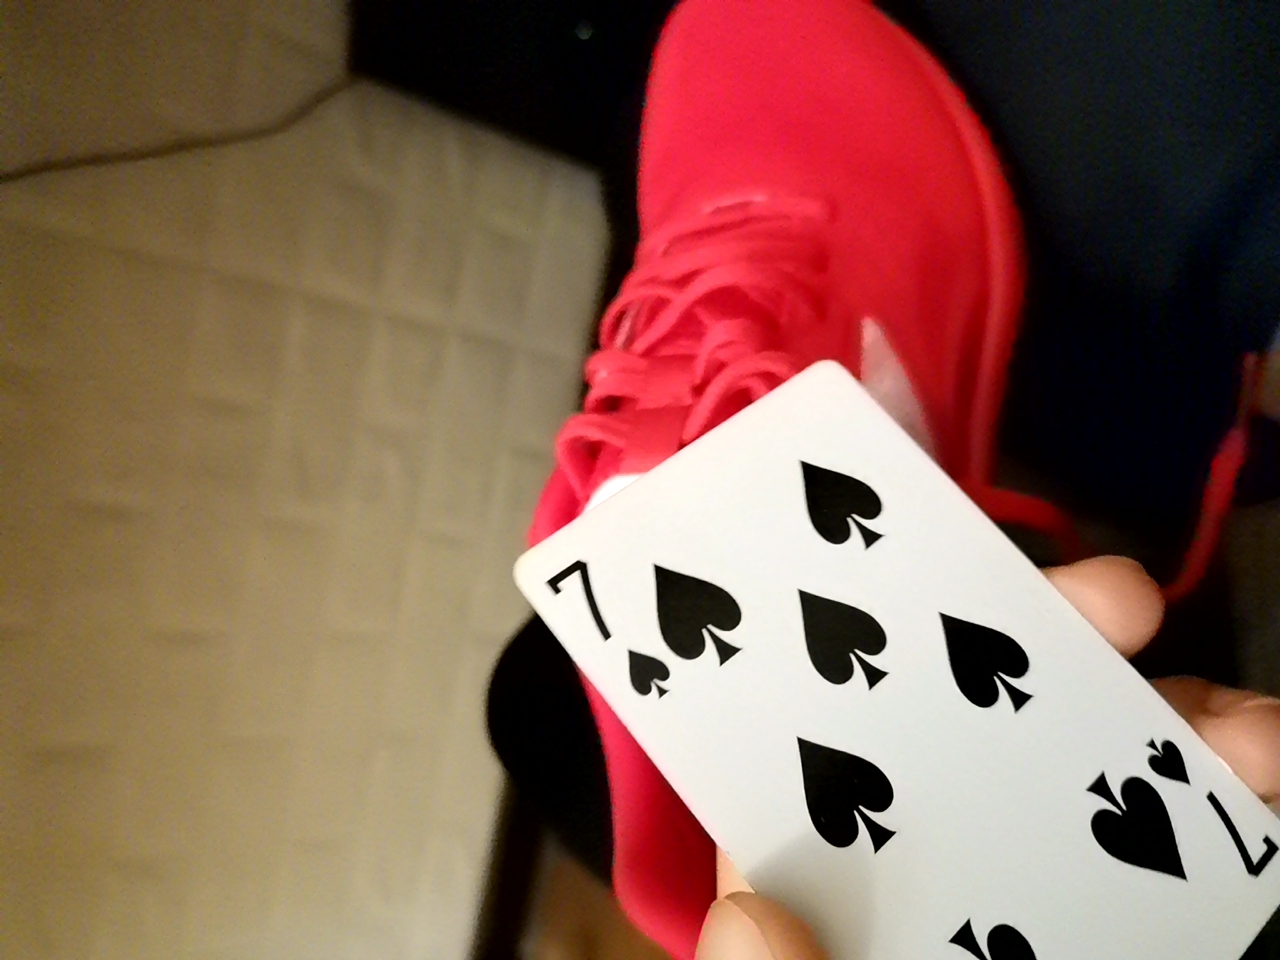ht 7: (515, 355, 1266, 956)
